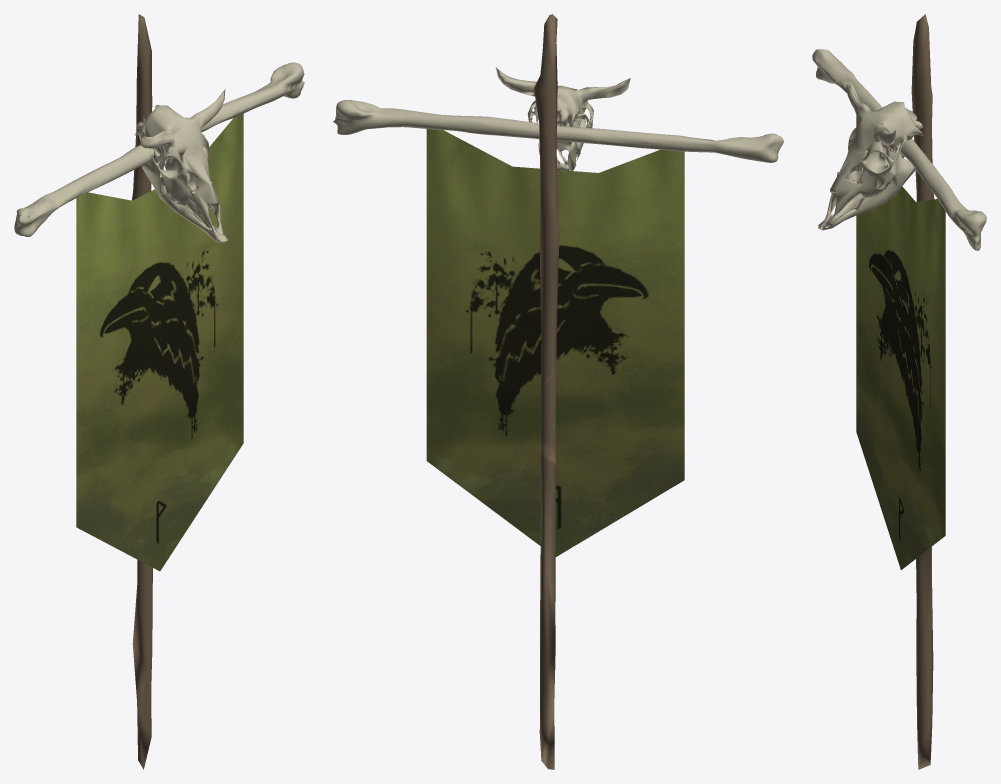
Rendered from flag_fort_positioning.glb.
The picture shows the model from 3 angles, left to right: view 1: azimuth 30°, elevation 25°; view 2: azimuth 150°, elevation 25°; view 3: azimuth 270°, elevation 25°; orthographic projection.
Visible parts, largest first — view 1: townhall.001; view 2: townhall.001; view 3: townhall.001.
Part boxes in pixels (x1=…): townhall.001: x1=14, y1=14, x2=304, y2=769; townhall.001: x1=333, y1=14, x2=783, y2=769; townhall.001: x1=812, y1=14, x2=986, y2=769.
Bounding box in the file's own units: 0.3814 × 0.7499 × 0.1568.
Materials: 3 (2 with a texture image).
